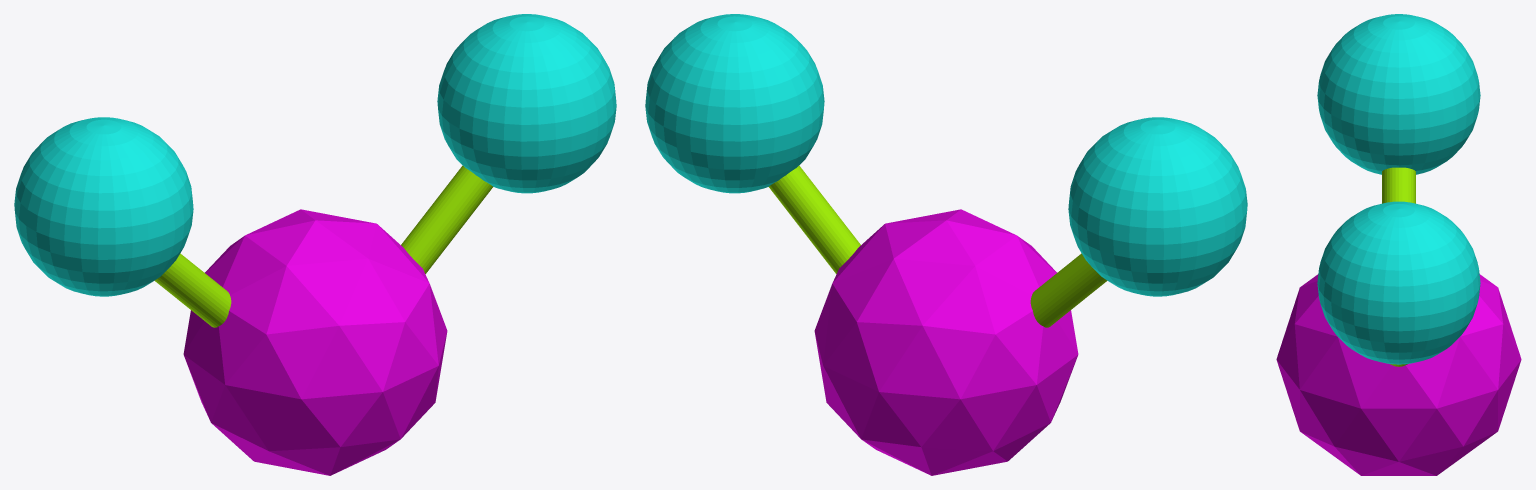
The model's file is molecule_h2o.glb.
The picture shows the model from 3 angles, left to right: view 1: azimuth 30°, elevation 25°; view 2: azimuth 150°, elevation 25°; view 3: azimuth 270°, elevation 25°; orthographic projection. The views are drawn at different scales.
Parts seen in each view (by area): view 1: Icosphere, Sphere.001, Sphere, Cylinder.001, Cylinder; view 2: Icosphere, Sphere.001, Sphere, Cylinder.001, Cylinder; view 3: Icosphere, Sphere, Sphere.001, Cylinder.
Boxes of the visible parts, bbox=[...] form: Icosphere: bbox=[183, 209, 447, 475]; Sphere.001: bbox=[14, 117, 193, 296]; Sphere: bbox=[437, 14, 616, 193]; Cylinder.001: bbox=[401, 165, 492, 273]; Cylinder: bbox=[154, 253, 231, 327]; Icosphere: bbox=[814, 209, 1078, 475]; Sphere.001: bbox=[1068, 117, 1247, 296]; Sphere: bbox=[645, 14, 824, 193]; Cylinder.001: bbox=[769, 165, 860, 273]; Cylinder: bbox=[1030, 253, 1107, 327]; Icosphere: bbox=[1276, 274, 1521, 475]; Sphere: bbox=[1317, 201, 1480, 364]; Sphere.001: bbox=[1317, 14, 1480, 174]; Cylinder: bbox=[1382, 167, 1415, 203].
Bounding box in the file's own units: 7.11 × 4.59 × 2.87.
